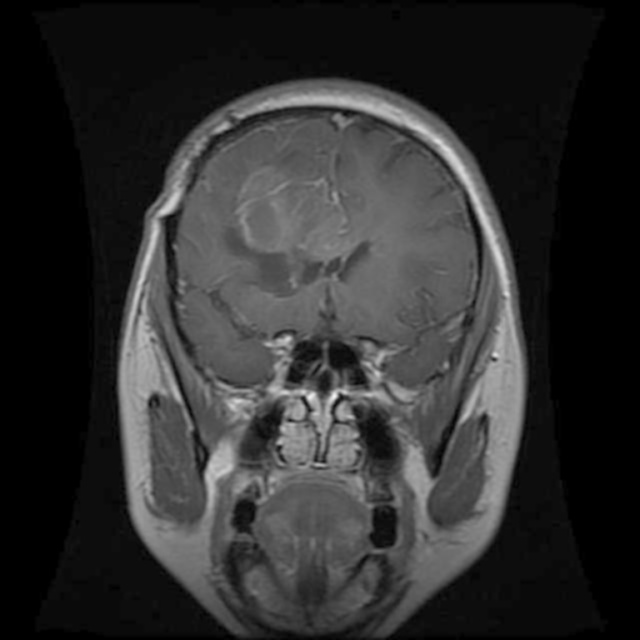pituitary tumor: (239, 174, 325, 252)
